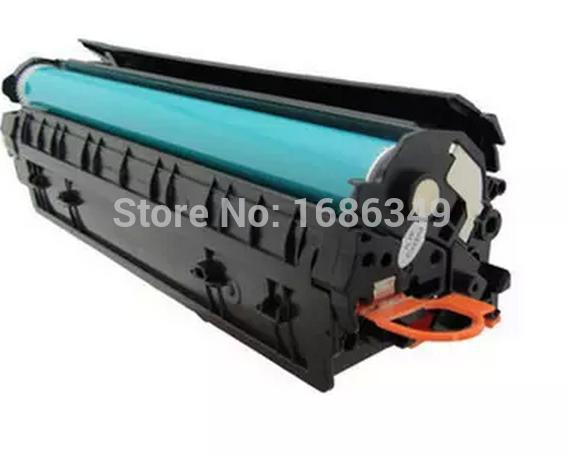Nonrec_Other: (3, 22, 526, 384)
